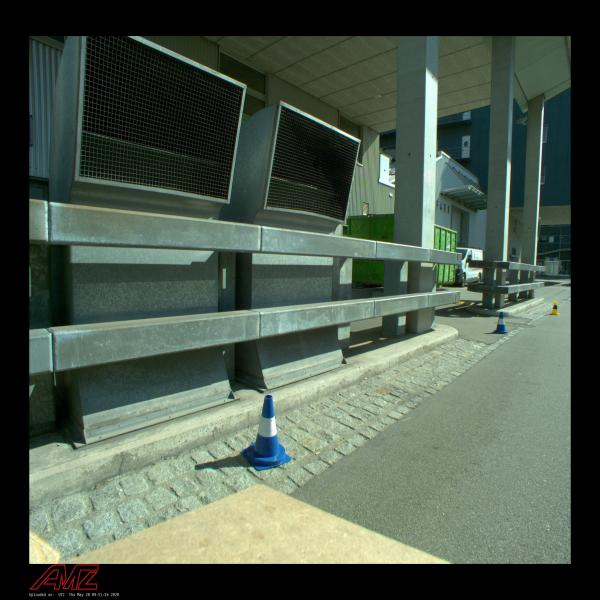blue_cone: (242, 394, 292, 471), (492, 312, 508, 334)
yellow_cone: (550, 300, 560, 315)
